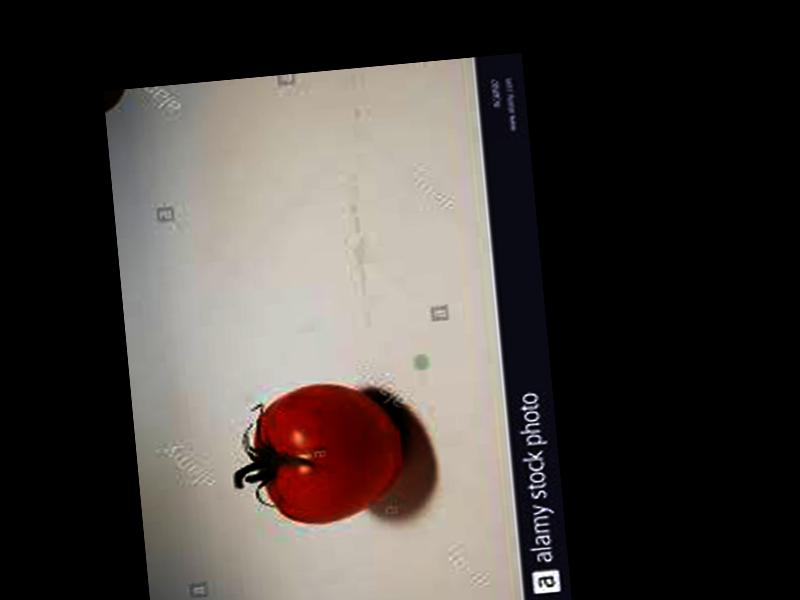Tomato: (252, 377, 410, 527)
